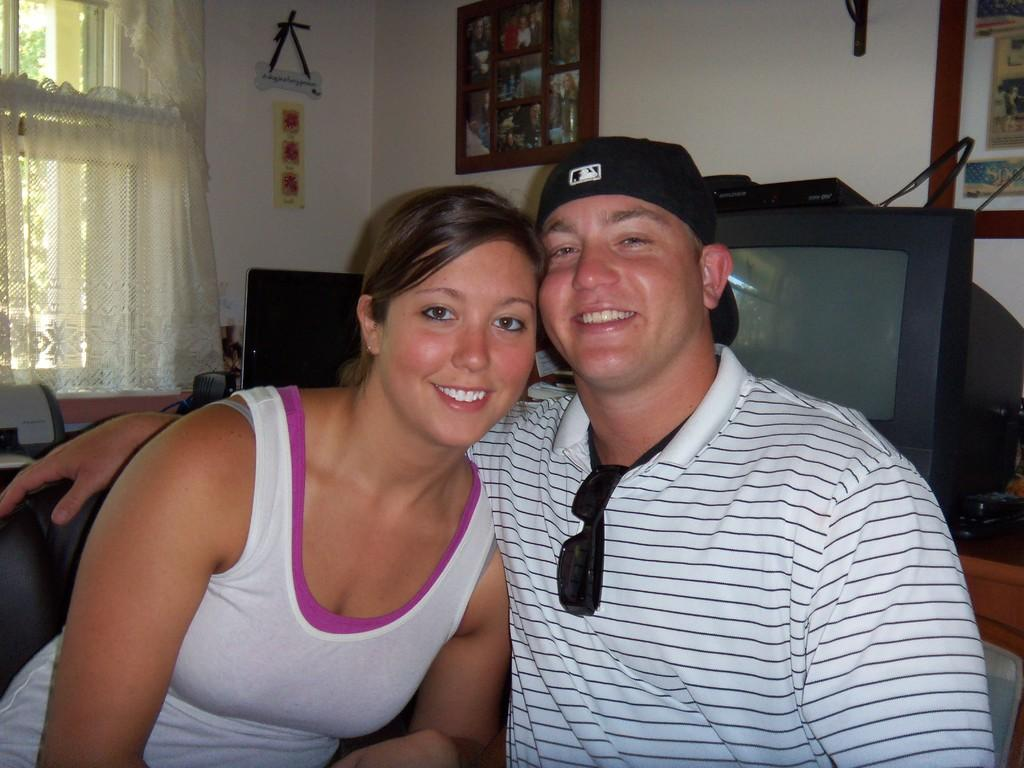Hat: (534, 133, 738, 349)
